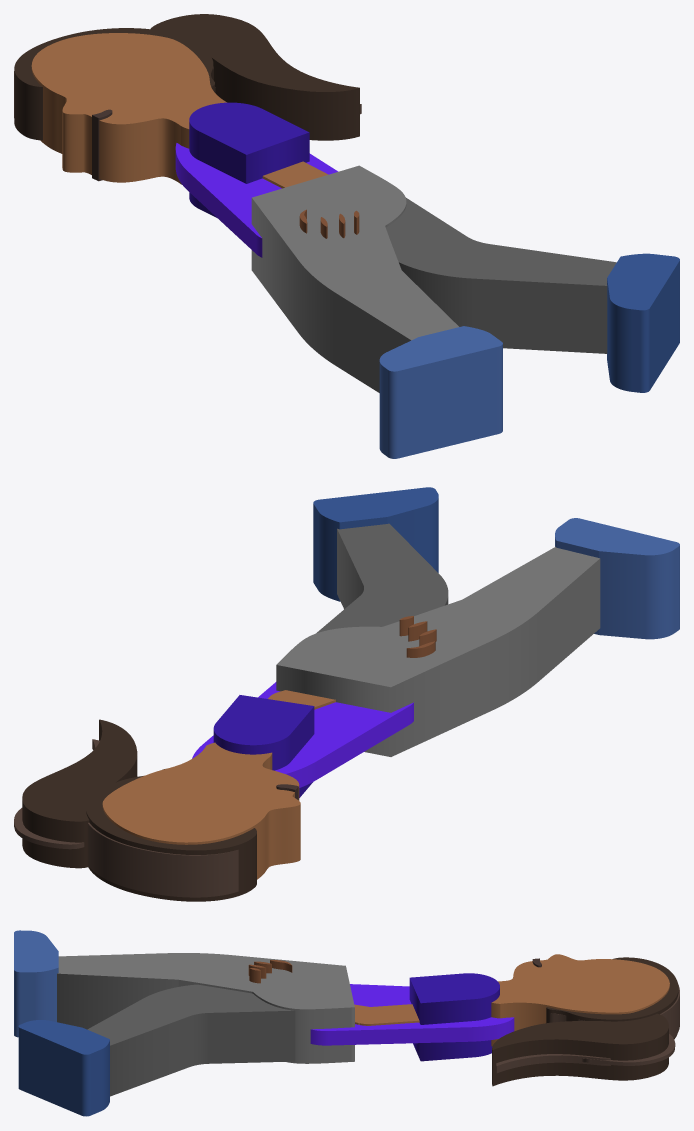
Rendered from emoji_u1f6b6_1f3fe_200d_2640.glb.
The picture shows the model from 3 angles, top to bottom: view 1: azimuth 30°, elevation 25°; view 2: azimuth 150°, elevation 25°; view 3: azimuth 270°, elevation 25°; orthographic projection. The views are drawn at different scales.
Parts seen in each view (by area): view 1: emoji_u1f6b6_1f3fe_200d_2640; view 2: emoji_u1f6b6_1f3fe_200d_2640; view 3: emoji_u1f6b6_1f3fe_200d_2640.
Part boxes in pixels (box(x1,y1,x2,y2)): emoji_u1f6b6_1f3fe_200d_2640: box(14, 14, 679, 458); emoji_u1f6b6_1f3fe_200d_2640: box(14, 487, 679, 901); emoji_u1f6b6_1f3fe_200d_2640: box(14, 930, 679, 1116).
Bounding box in the file's own units: 0.0144 × 0.0044 × 0.0332.
